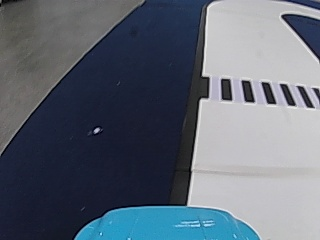CrossWalk: (205, 75, 315, 107)
